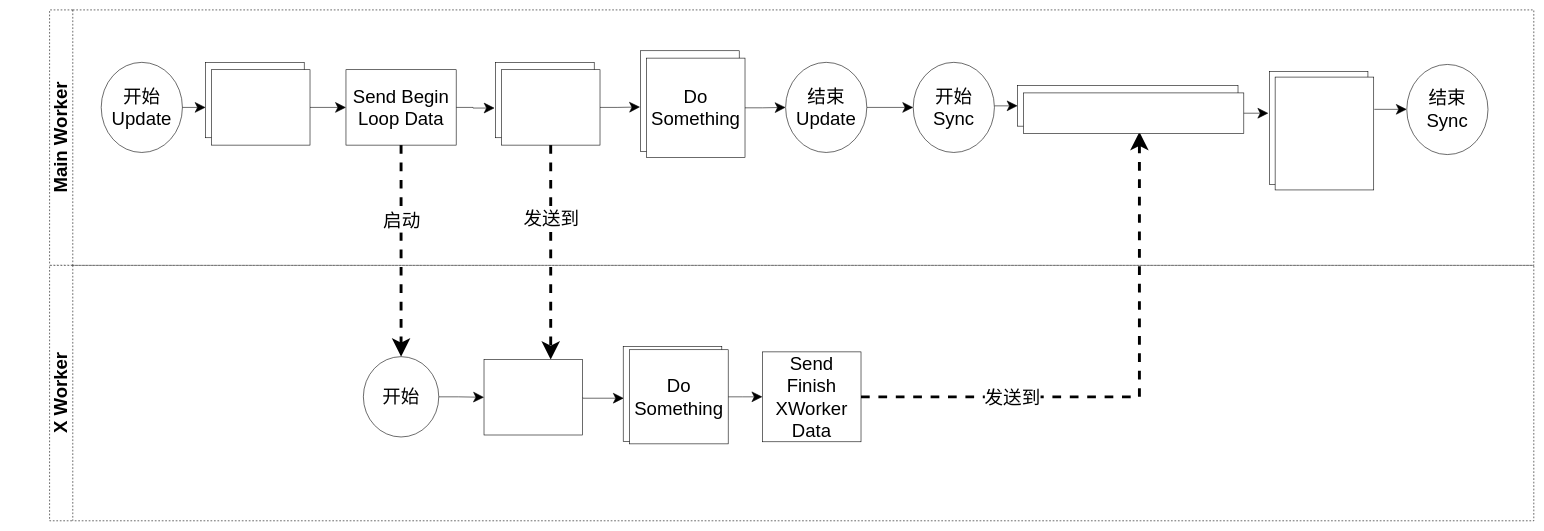
The diagram is 1544 pixels wide and 531 high, and some of its shapes have lost their labels. The shapes that lost their labels are listed below. From the top down, each one's centre as x and y in pixels, then its label:
At (260,107): "Update XWorker Data Buffer".
At (550,107): "Send XWorker Data".
At (1133,113): "Get Finish XWorker Data".
At (1324,133): "Update Shared Data".
At (533,397): "Get XWorker Data".
